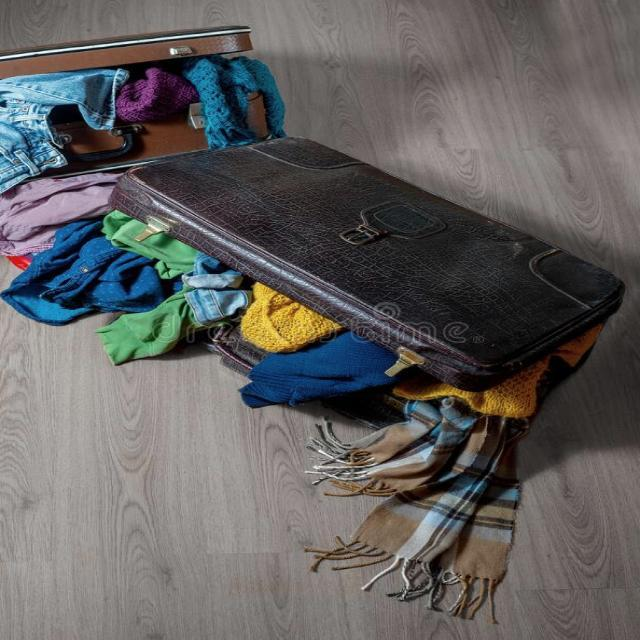clothes: (15, 72, 574, 602)
